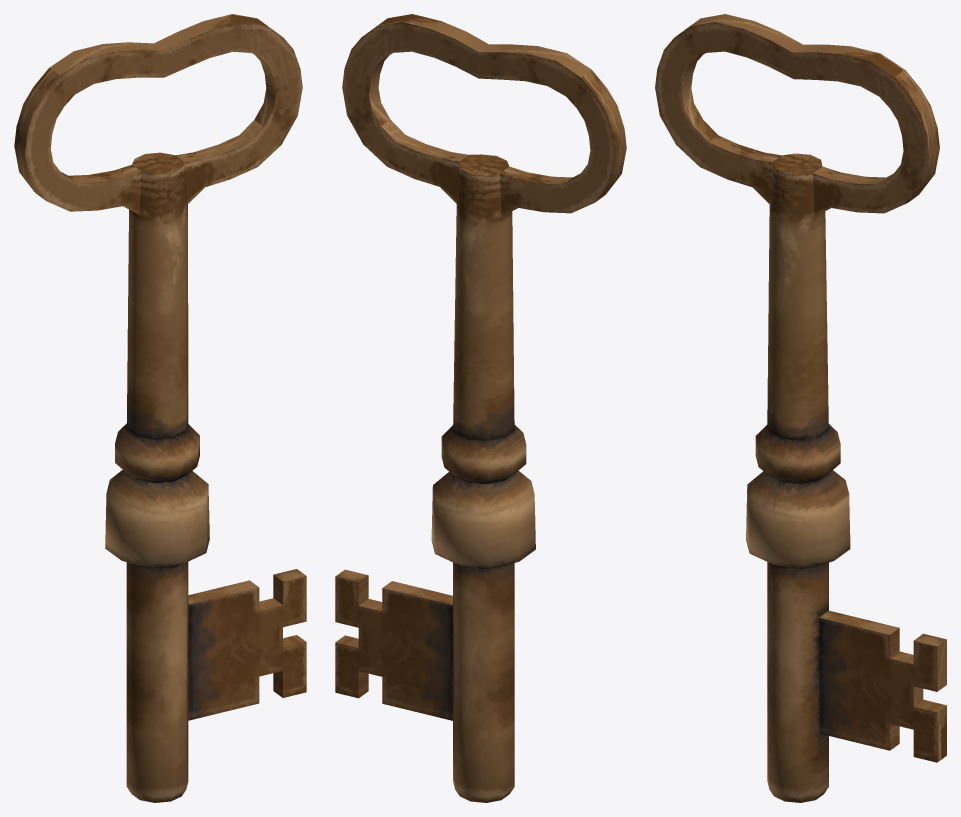
File: Key_A.FBX
3 renders of one model, left to right at view 1: azimuth 30°, elevation 25°; view 2: azimuth 150°, elevation 25°; view 3: azimuth 330°, elevation 25°, orthographic.
Parts seen in each view (by area): view 1: Key_B; view 2: Key_B; view 3: Key_B.
Part boxes in pixels (x1,y1,x2,y2): Key_B: [14, 14, 306, 802]; Key_B: [335, 14, 626, 802]; Key_B: [655, 14, 946, 802].
Bounding box in the file's own units: 10.94 × 28 × 3.59.
